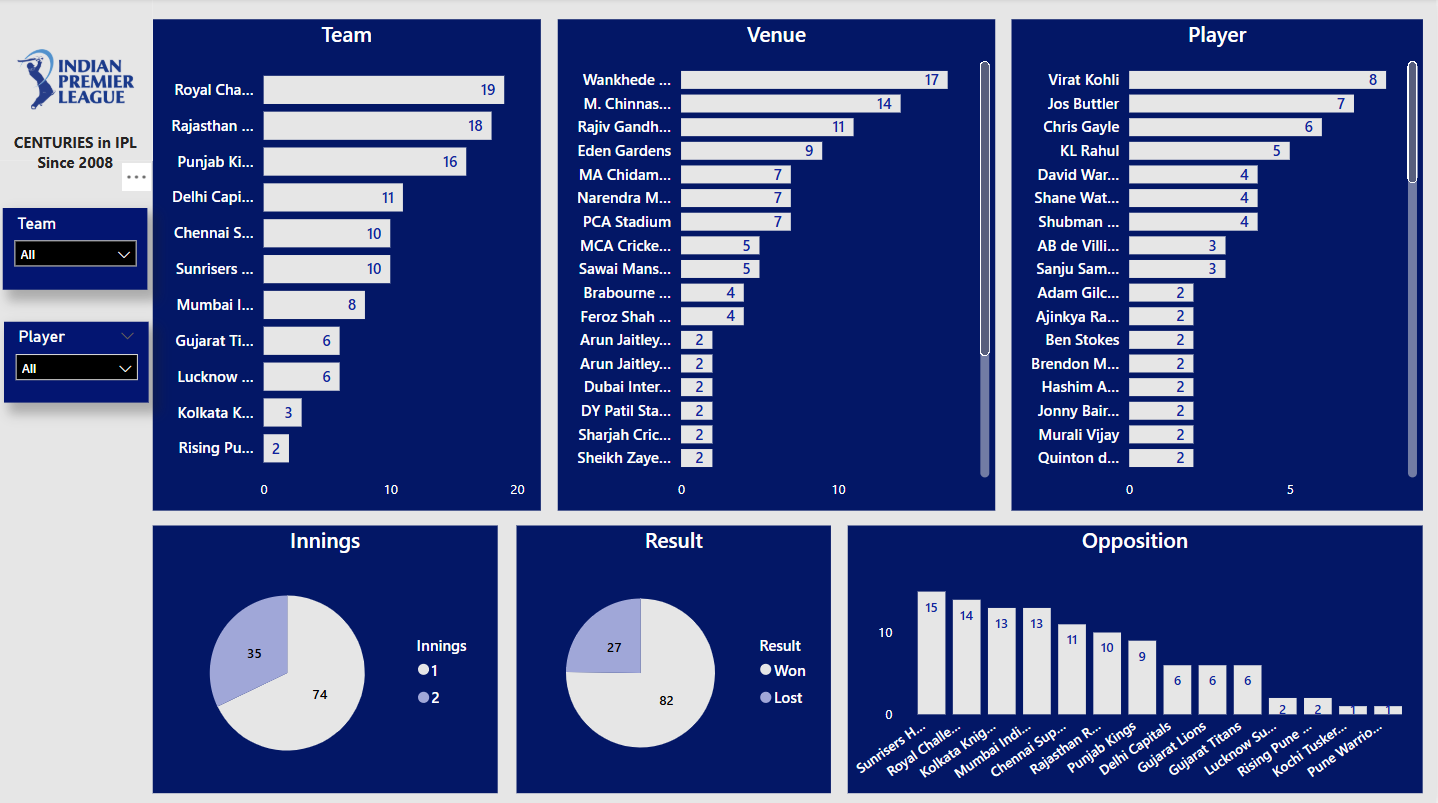

This screenshot's page, from the dashboard's own definition file:
{"tool":"powerbi","page":{"name":"Page 1","canvas":[1280,720],"ordinal":0},"visuals":[{"type":"barChart","title":"Team","fields":{"Category":["ipl_centuries.Team"],"Y":["ipl_centuries.Score"]},"box":[137.2,18.6,345.3,437.2],"z":0},{"type":"barChart","title":"Venue","fields":{"Category":["ipl_centuries.Venue"],"Y":["ipl_centuries.Score"]},"box":[497.7,18.6,389.5,437.2],"z":1000},{"type":"barChart","title":"Player","fields":{"Category":["ipl_centuries.Player"],"Y":["ipl_centuries.Score"]},"box":[901.2,18.6,366.3,437.2],"z":2000},{"type":"pieChart","title":"Result","fields":{"Category":["ipl_centuries.Result"],"Y":["ipl_centuries.Score"]},"box":[460.5,469.8,280.2,238.4],"z":3000},{"type":"pieChart","title":"Innings","fields":{"Category":["ipl_centuries.Innings"],"Y":["ipl_centuries.Score"]},"box":[137.2,469.8,307,238.4],"z":4000},{"type":"columnChart","title":"Opposition","fields":{"Category":["ipl_centuries.Opposition"],"Y":["ipl_centuries.Score"]},"box":[755.8,469.8,511.6,238.4],"z":5000},{"type":"image","box":[0,0,137.2,145.3],"z":6000},{"type":"textbox","box":[3.5,115.1,129.1,45.3],"z":7000},{"type":"slicer","fields":{"Values":["ipl_centuries.Team"]},"box":[3.5,187.2,129.1,73],"z":7001},{"type":"slicer","fields":{"Values":["ipl_centuries.Player"]},"box":[4.7,288.4,129.1,72.1],"z":7002}]}

Visuals, with their boxes in screenshot pixels (x1, y1, x2, y2):
"Team" barChart: (145, 6, 538, 504)
"Venue" barChart: (555, 6, 998, 504)
"Player" barChart: (1014, 6, 1431, 504)
"Result" pieChart: (513, 520, 832, 791)
"Innings" pieChart: (145, 520, 494, 791)
"Opposition" columnChart: (849, 520, 1431, 791)
image: (0, 0, 145, 150)
textbox: (0, 116, 140, 168)
slicer - ipl_centuries.Team: (0, 198, 140, 281)
slicer - ipl_centuries.Player: (0, 313, 141, 395)
